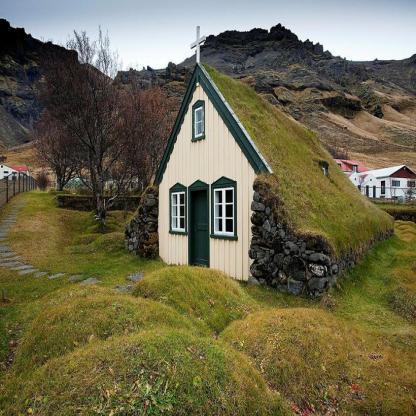Building Outline: (124, 26, 395, 303)
Corner Stone: (248, 177, 338, 303), (124, 186, 159, 260)
Door: (188, 179, 210, 273)
Door Hole: (190, 190, 207, 268)
Facade: (159, 140, 252, 285)
Floor Slab: (156, 143, 257, 176)
Ground Floor: (158, 149, 252, 284)
Top Floor: (165, 82, 240, 169)
Window: (211, 176, 238, 240), (169, 182, 187, 234), (191, 100, 205, 142)
